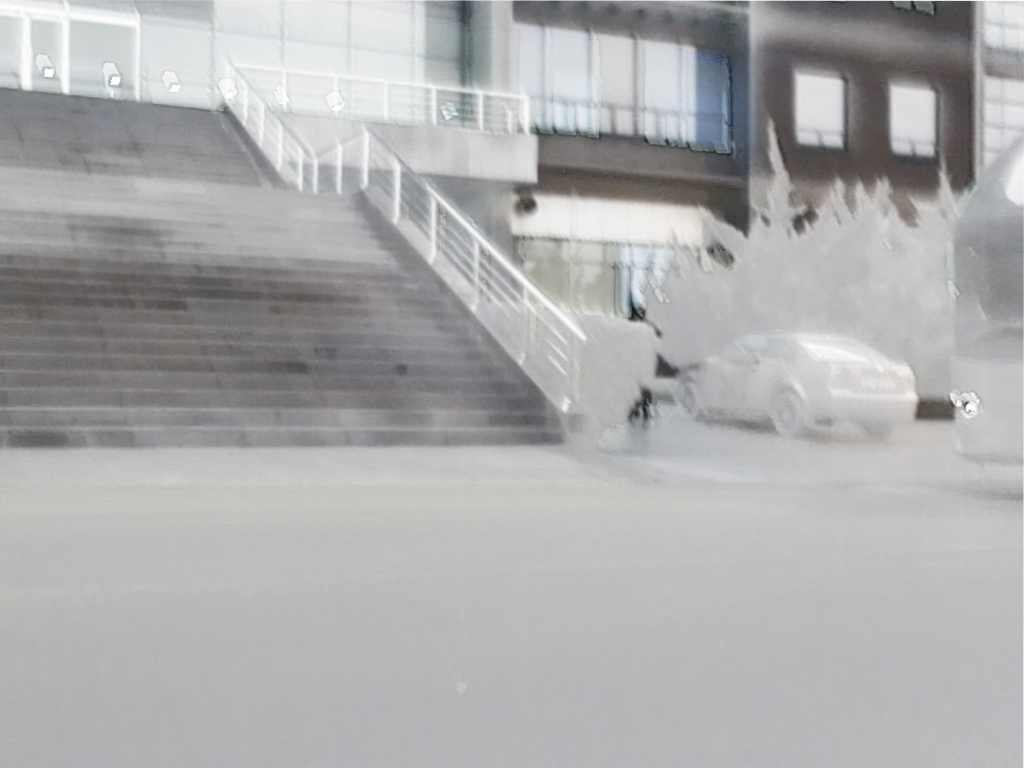person: (619, 297, 659, 424)
